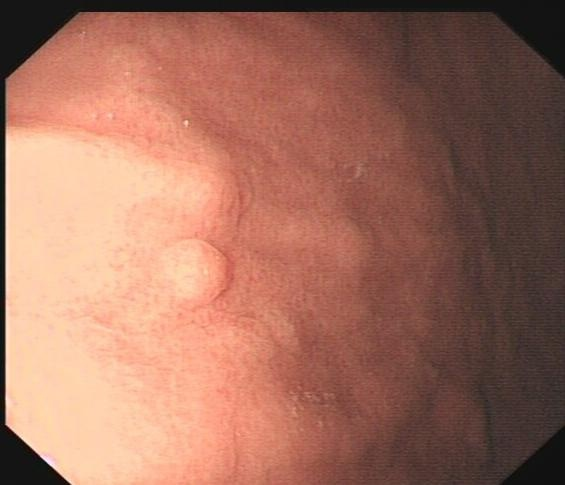Polyp: (157, 232, 236, 311)
